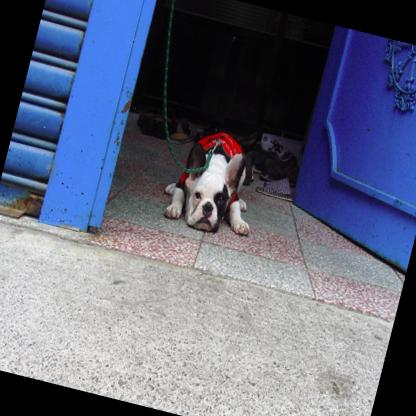French_bulldog: (158, 118, 274, 241)
